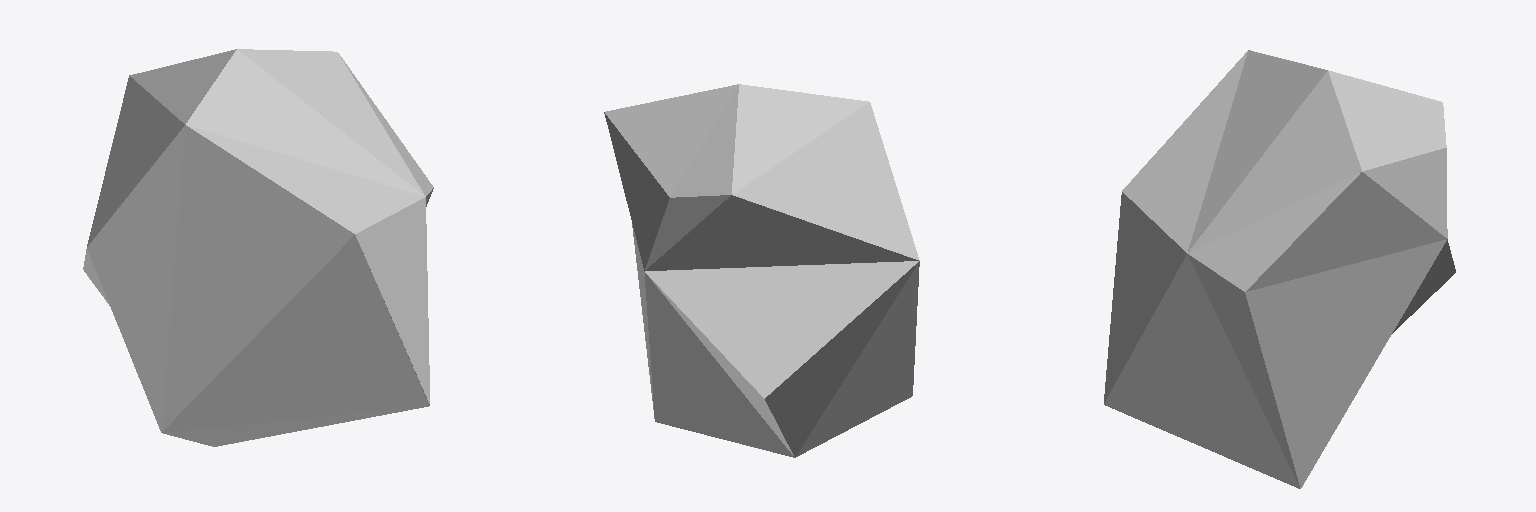
The model's file is identity.obj.
3 renders of one model, left to right at view 1: azimuth 30°, elevation 25°; view 2: azimuth 150°, elevation 25°; view 3: azimuth 270°, elevation 25°, orthographic.
Visible parts, largest first — view 1: 000_Buffer_Layer; view 2: 000_Buffer_Layer; view 3: 000_Buffer_Layer.
Part boxes in pixels (x1,y1,x2,y2): 000_Buffer_Layer: (83, 49, 433, 446); 000_Buffer_Layer: (604, 84, 919, 457); 000_Buffer_Layer: (1104, 50, 1455, 488).
Size of the model in its own units: 73.58 by 82.39 by 69.99.